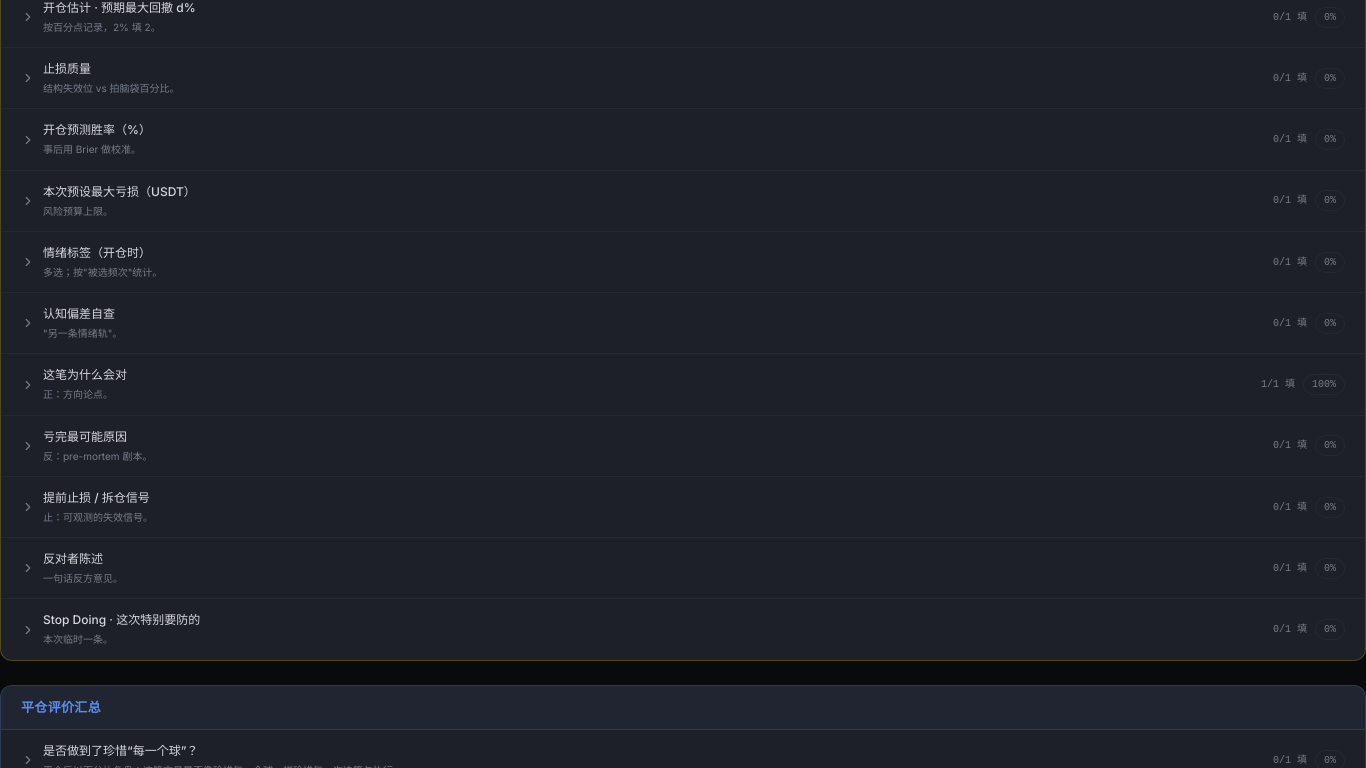
Test: JournalSummaryView campaign navigation › opens the stable campaign route when a history answer is clicked
The width and height of the screenshot is (1366, 768).
(page scrolled)
Step 1. Click the button "这笔为什么会对 正：方向论点。 1/1 填 100%" → (85, 375), box [1, 354, 1365, 415]
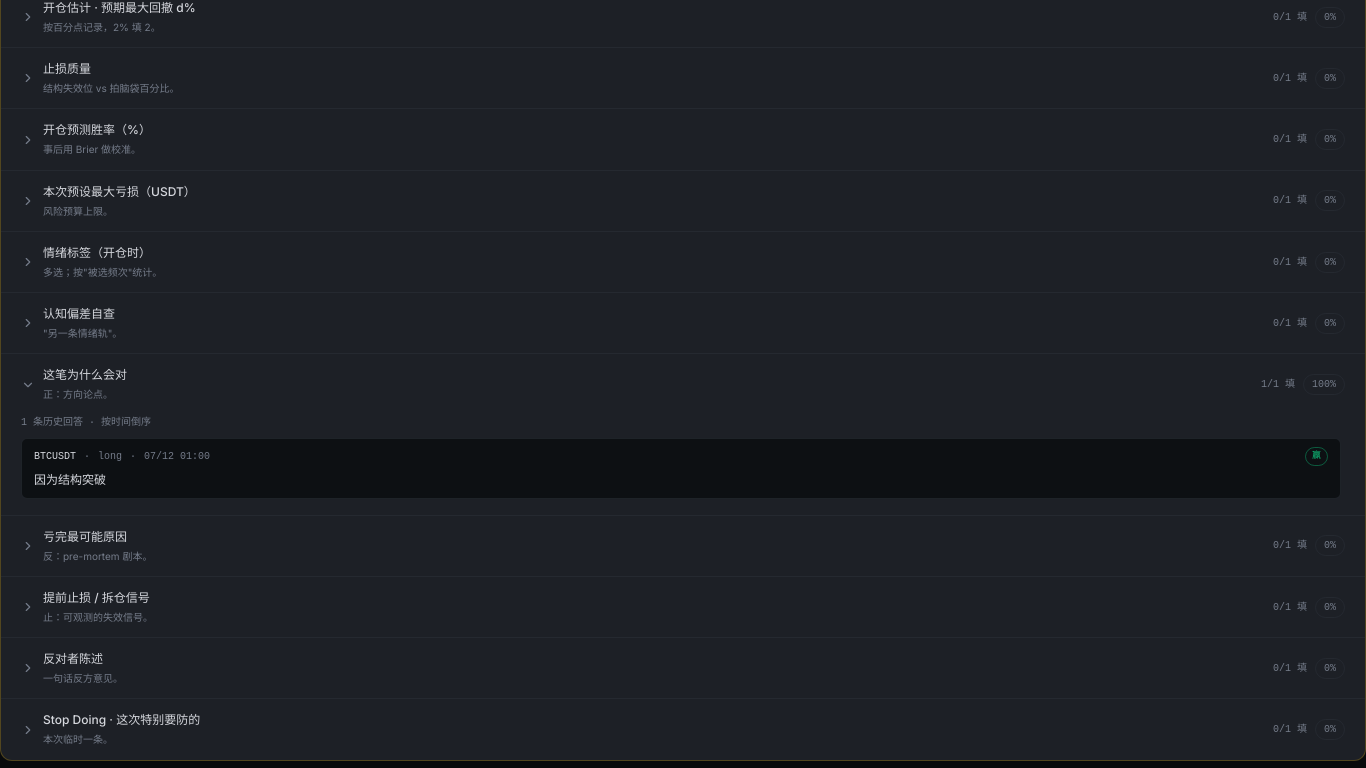
Result: the button "BTCUSDT · long · 07/12 01:00 赢 因为结构突破" is shown
Step 2. Click the button "BTCUSDT · long · 07/12 01:00 赢 因为结构突破" → (55, 456), box [21, 438, 1341, 499]
(page scrolled)
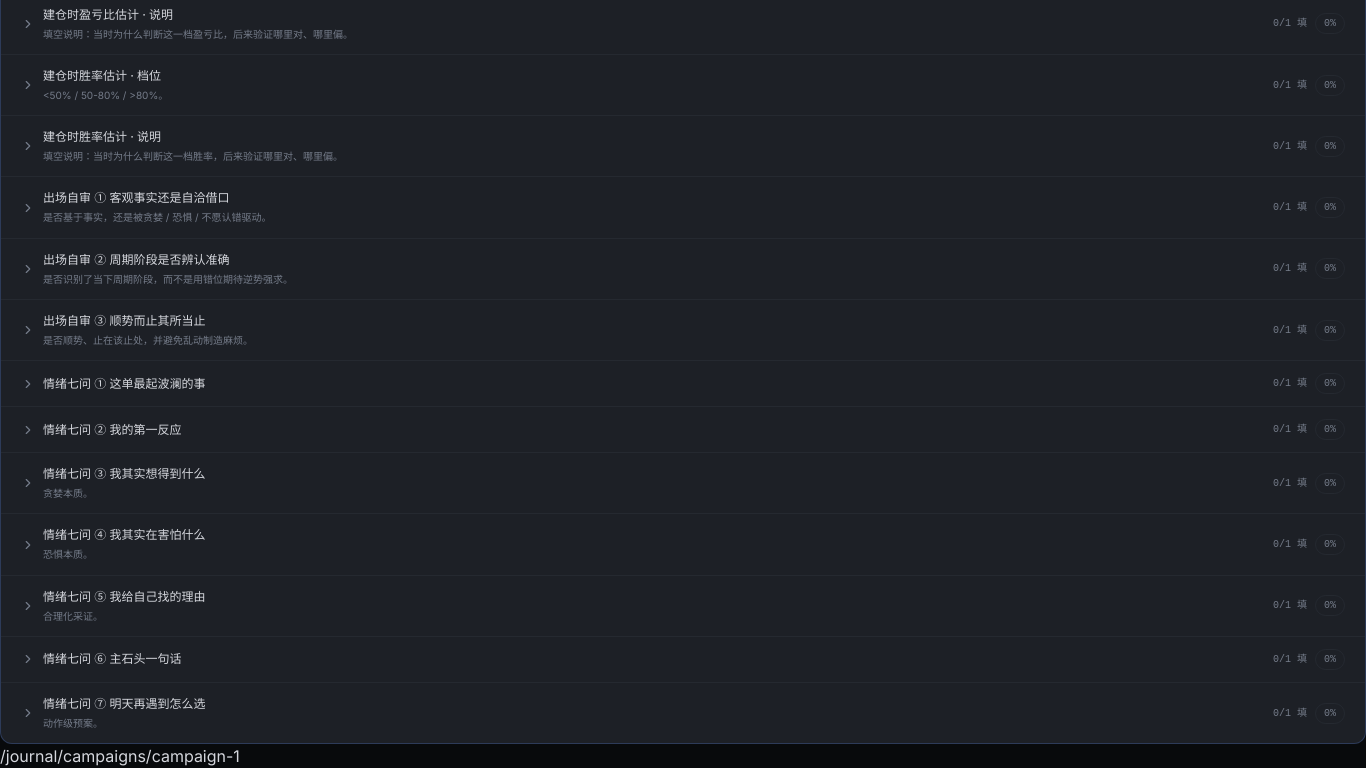
Result: the text with test id "location-path" reads "/journal/campaigns/campaign-1" at [0, 746, 240, 766]
